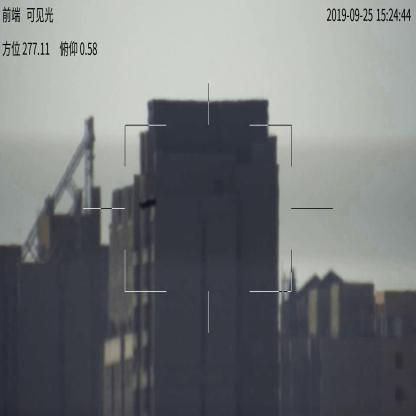uav: (139, 198, 158, 210)
